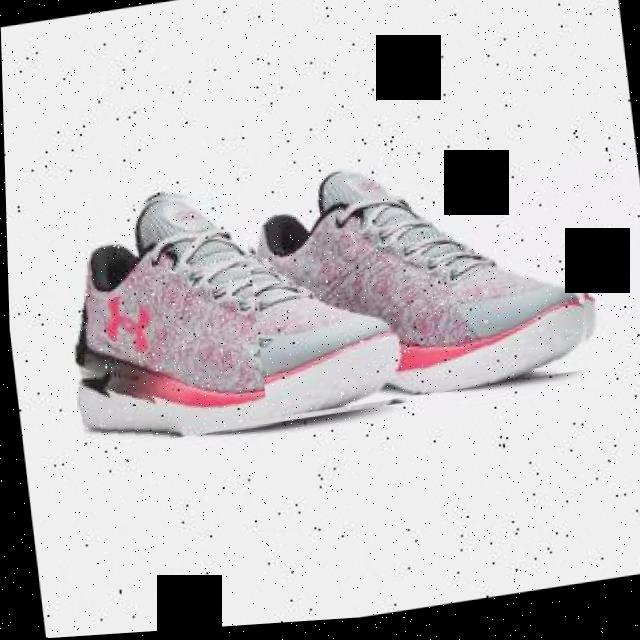shoe: (55, 163, 413, 453), (238, 140, 600, 423)
